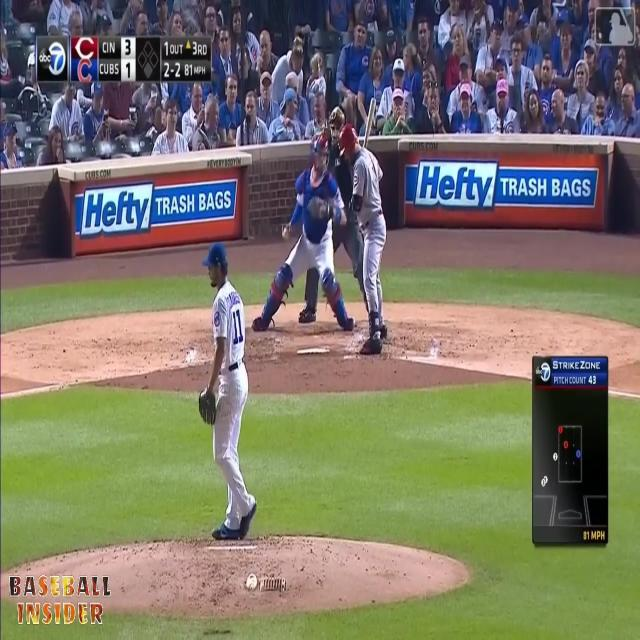baseball: (281, 225, 290, 240)
